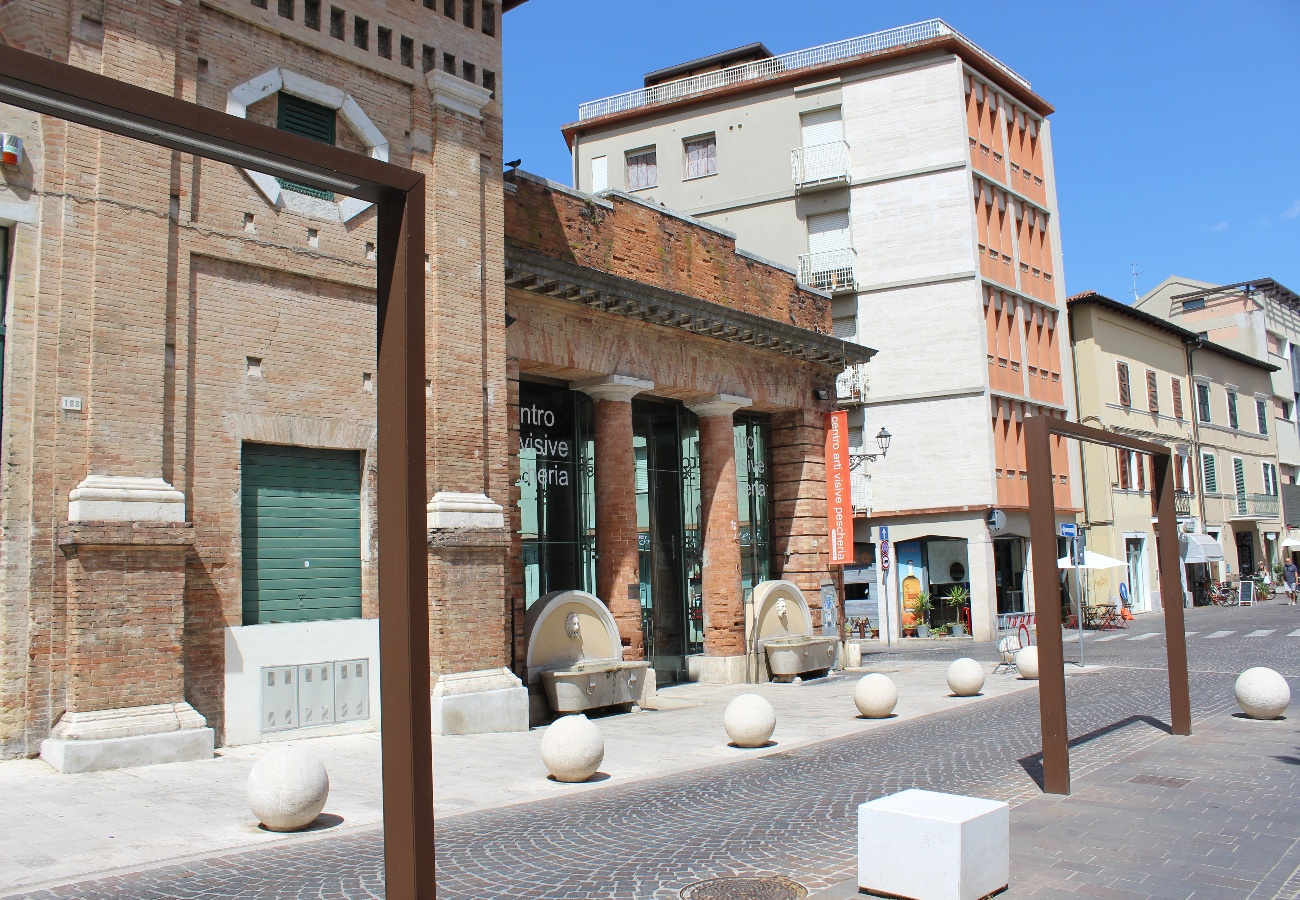Centro Arti Visive Pescheria: (485, 170, 863, 716)
